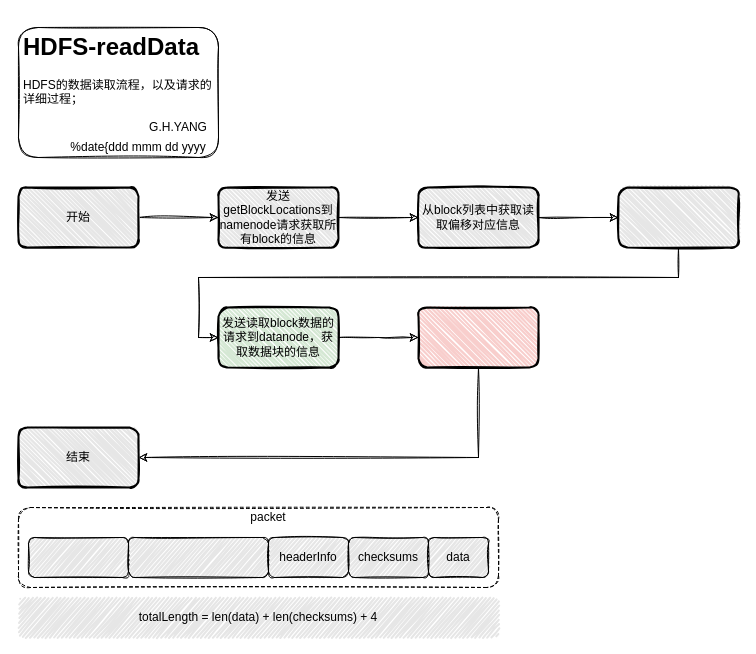
Some shapes in this 756 by 654 pixel diagram are drawn without their labels. The shapes that lost their labels are listed below. From the top down, each one's centre as x and y in pixels, then its label:
At [678,217]: "和block所在的datanode建立连接".
At [478,337]: "一个数据包一个数据包的读取到本地，block读取完为止".
At [78,557]: "totalLength(uin32)".
At [198,557]: "len(headerInfo)(uin16)".
